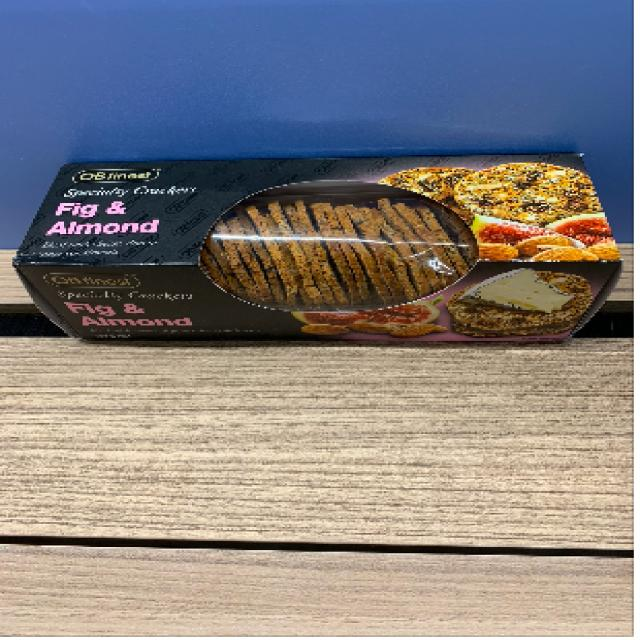object_name: (23, 174, 608, 344)
